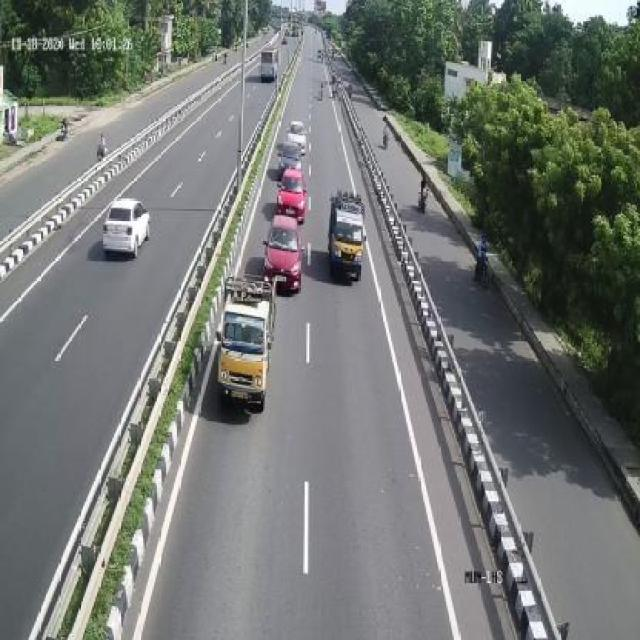car: (218, 277, 276, 414), (329, 188, 369, 289), (266, 212, 303, 294), (108, 194, 150, 261), (278, 164, 311, 222), (283, 120, 312, 157)
